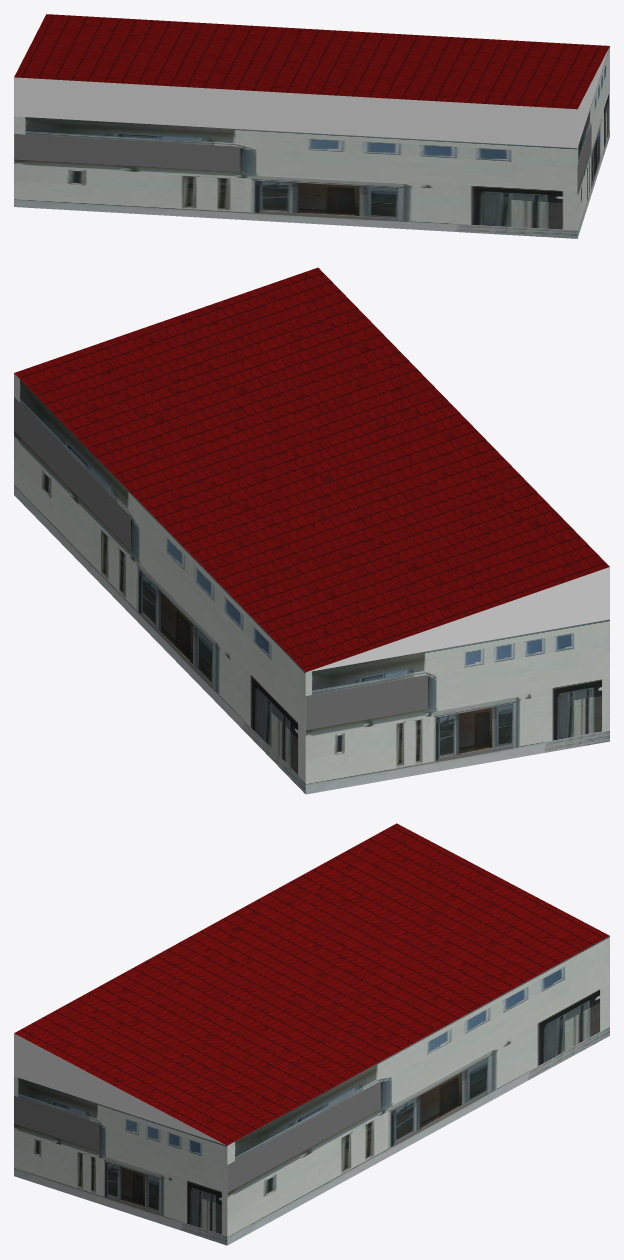
3 views of the same model, one above another, from view 1: azimuth 30°, elevation 25°; view 2: azimuth 150°, elevation 25°; view 3: azimuth 270°, elevation 25° (orthographic). The views are drawn at different scales.
Visible parts, largest first — view 1: CityEngineMaterial_11_m, CityEngineMaterial_17_m, CityEngineMaterial_3_m; view 2: CityEngineMaterial_17_m, CityEngineMaterial_11_m, CityEngineMaterial_3_m; view 3: CityEngineMaterial_17_m, CityEngineMaterial_11_m, CityEngineMaterial_3_m.
Boxes of the visible parts, box(x1,y1,x2,y2) form: CityEngineMaterial_11_m: box(14, 47, 609, 238); CityEngineMaterial_17_m: box(14, 14, 609, 109); CityEngineMaterial_3_m: box(14, 47, 609, 148); CityEngineMaterial_17_m: box(14, 267, 609, 672); CityEngineMaterial_11_m: box(14, 373, 609, 794); CityEngineMaterial_3_m: box(308, 567, 609, 671); CityEngineMaterial_17_m: box(14, 823, 609, 1145); CityEngineMaterial_11_m: box(14, 936, 609, 1245); CityEngineMaterial_3_m: box(14, 1033, 225, 1145).
Size of the model in its own units: 35.94 by 8.57 by 32.4.
